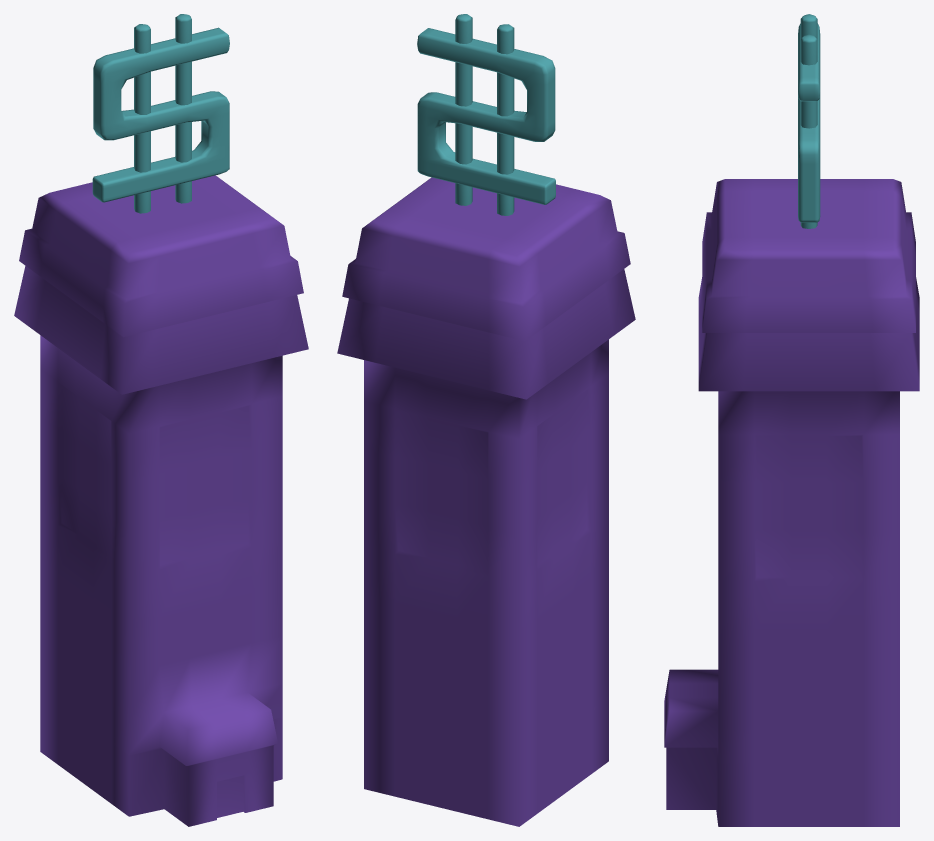
The model's file is SM_Building_Business_B.fbx.
3 views of the same model, side by side, from view 1: azimuth 30°, elevation 25°; view 2: azimuth 150°, elevation 25°; view 3: azimuth 270°, elevation 25° (orthographic). The views are drawn at different scales.
Parts seen in each view (by area): view 1: dollarTop2; view 2: dollarTop2; view 3: dollarTop2.
Part boxes in pixels (bbox=[...]): dollarTop2: bbox=[14, 14, 308, 826]; dollarTop2: bbox=[337, 14, 635, 826]; dollarTop2: bbox=[664, 14, 919, 826].
Size of the model in its own units: 227 by 864 by 262.
